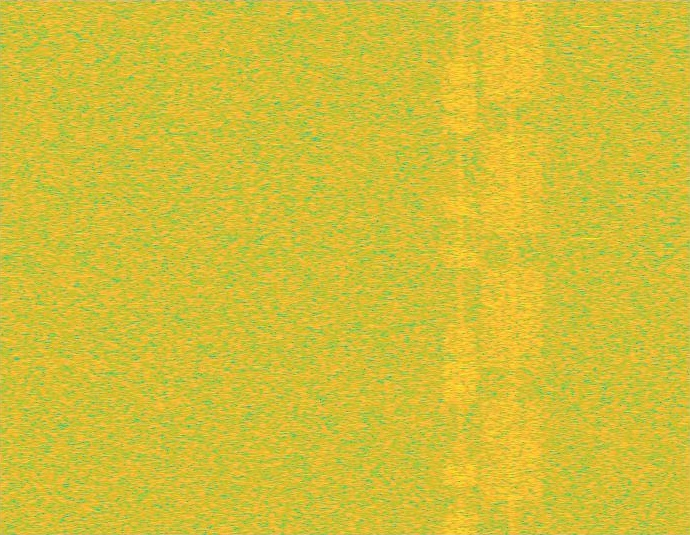5G: (478, 0, 547, 534)
DSSS: (508, 0, 517, 534), (456, 0, 464, 534)
LTE: (443, 0, 478, 534)
Radar: (584, 0, 598, 534)
